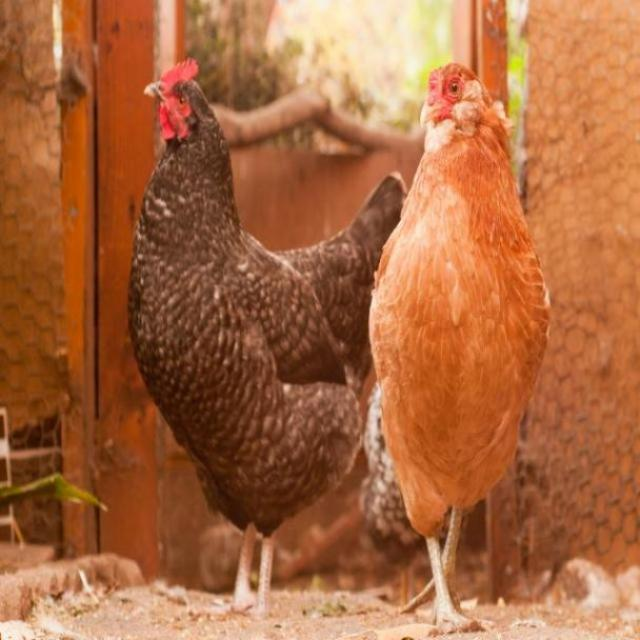Chicken: (123, 53, 406, 619), (360, 68, 549, 606)
